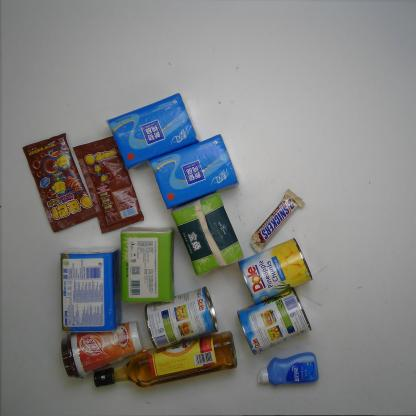Candy: (22, 133, 96, 232), (73, 134, 145, 234)
Canned Food: (139, 285, 220, 351), (235, 288, 312, 356), (238, 239, 312, 304)
Chocolate: (250, 189, 304, 254)
Instant Drink: (60, 322, 144, 380)
Personal Hygiene: (254, 350, 320, 389)
Seasoner: (92, 330, 238, 390)
Tissue: (104, 92, 201, 172), (147, 134, 240, 211), (170, 193, 244, 275), (59, 245, 123, 335), (120, 224, 176, 306)
